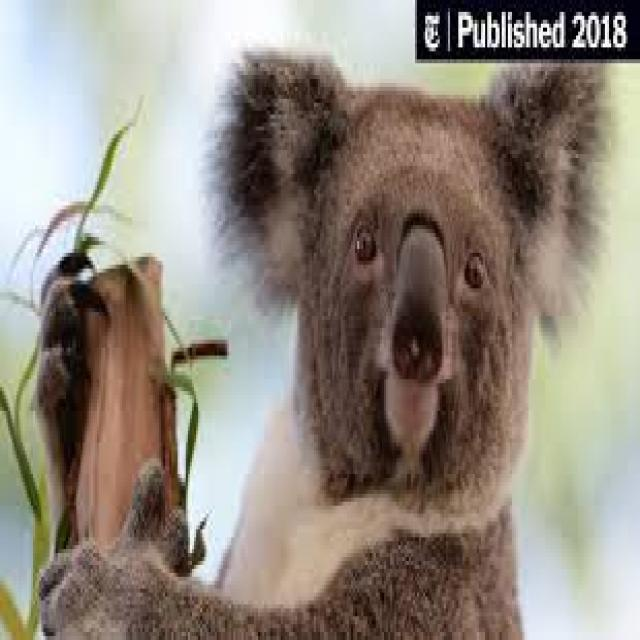Koala: (35, 43, 619, 640)
